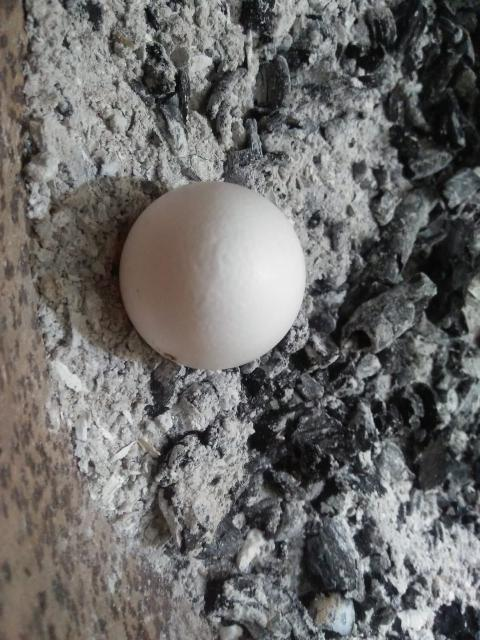Sano: (118, 180, 307, 370)
